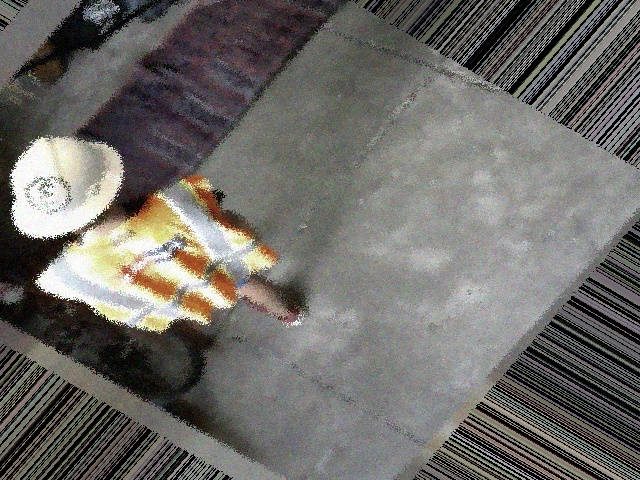three: (19, 169, 79, 216)
